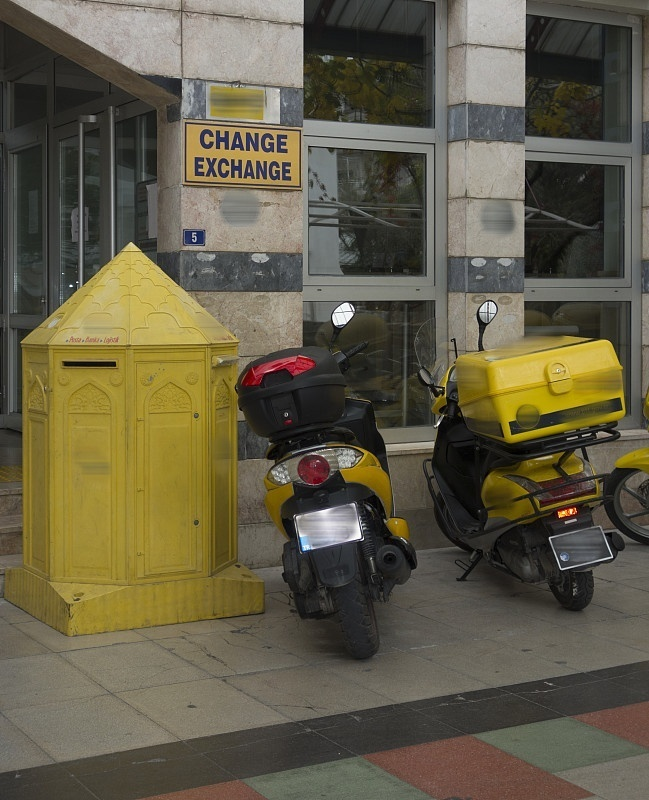non-vehicle: (230, 313, 418, 663), (421, 330, 626, 616), (606, 314, 648, 551)
